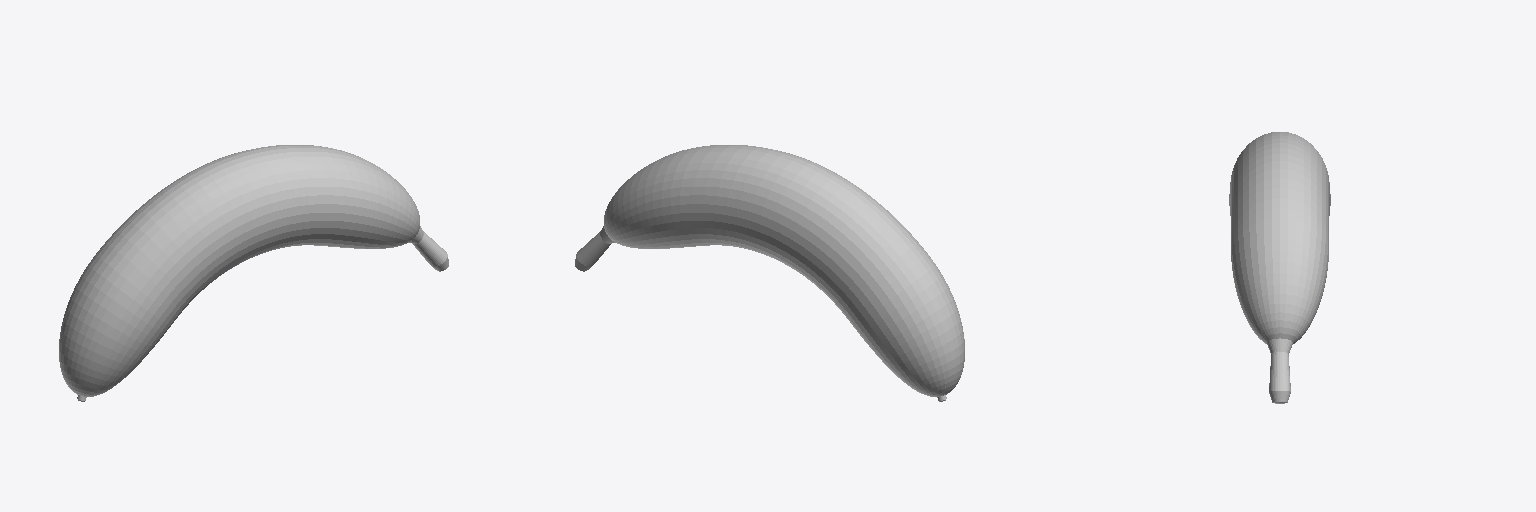
The model's file is banana.obj.
3 views of the same model, side by side, from view 1: azimuth 30°, elevation 25°; view 2: azimuth 150°, elevation 25°; view 3: azimuth 270°, elevation 25° (orthographic).
Visible parts, largest first — view 1: banana; view 2: banana; view 3: banana.
Boxes of the visible parts, box(x1,y1,x2,y2) form: banana: box(59, 145, 448, 401); banana: box(575, 145, 964, 401); banana: box(1229, 132, 1330, 403).
Size of the model in its own units: 10.57 by 5.4 by 2.42.